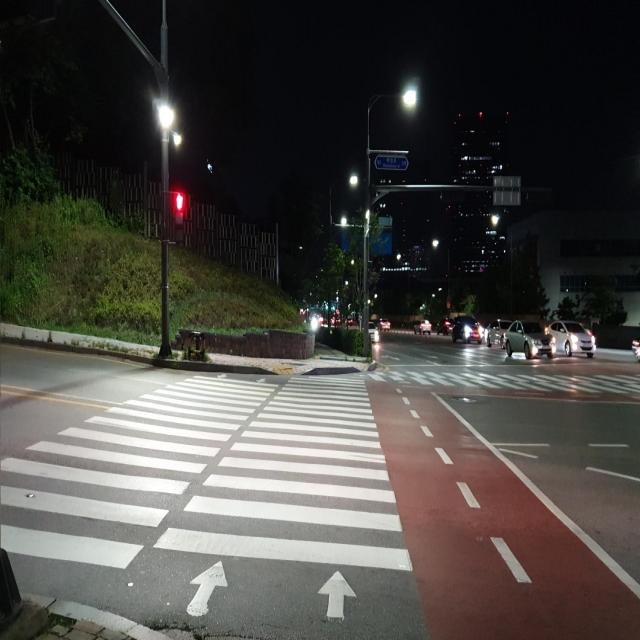빨간불: (168, 189, 187, 249)
횡단보도: (0, 371, 414, 621), (392, 365, 640, 400)
